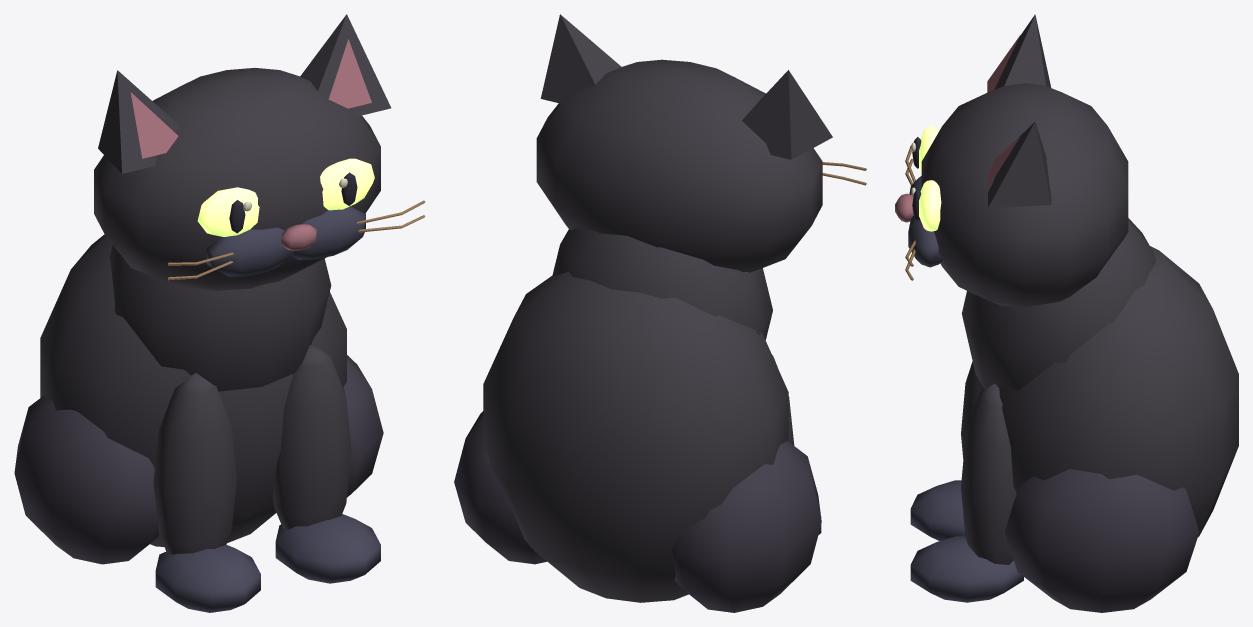
Rendered from cat_sitting.glb.
3 renders of one model, left to right at view 1: azimuth 30°, elevation 25°; view 2: azimuth 150°, elevation 25°; view 3: azimuth 270°, elevation 25°, orthographic. The views are drawn at different scales.
Parts seen in each view (by area): view 1: cat_sitting; view 2: cat_sitting; view 3: cat_sitting.
Boxes of the visible parts, x1,y1,x2,y2 form: cat_sitting: (14, 14, 425, 612); cat_sitting: (454, 14, 866, 612); cat_sitting: (895, 14, 1238, 612).
Bounding box in the file's own units: 0.28 × 0.42 × 0.26.
